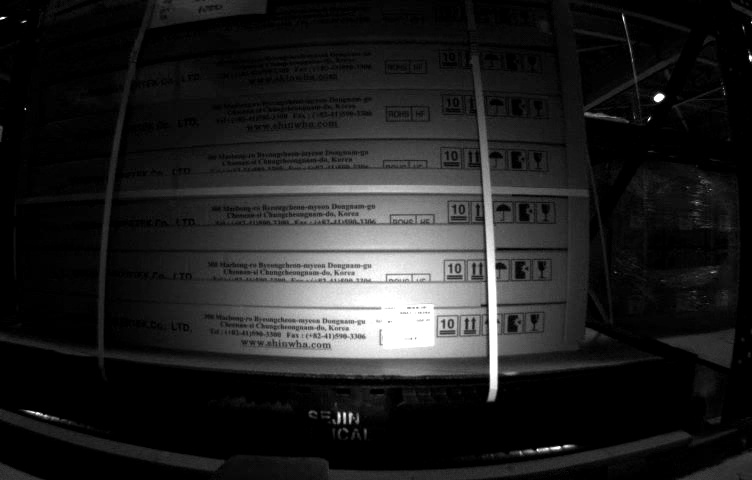True Barcode: (381, 303, 434, 348)
